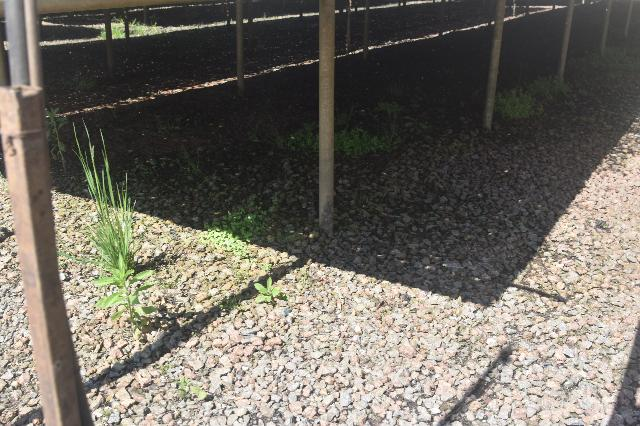MalezaMontesDelPlata: (67, 115, 170, 345), (189, 189, 284, 258), (42, 100, 76, 175), (265, 116, 319, 156), (572, 45, 640, 75), (333, 124, 398, 154), (490, 86, 541, 123), (167, 372, 215, 405), (523, 70, 574, 99), (247, 278, 290, 307), (404, 108, 426, 140)
